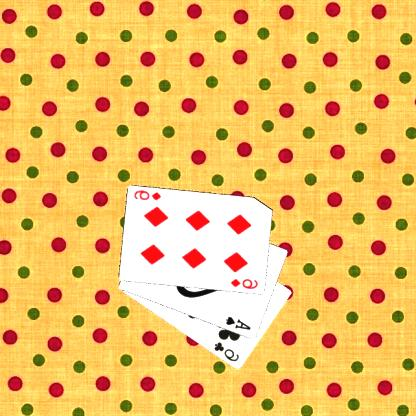6C: (214, 340, 243, 364)
6D: (134, 187, 164, 202), (230, 276, 261, 290)
AS: (225, 314, 254, 332)
